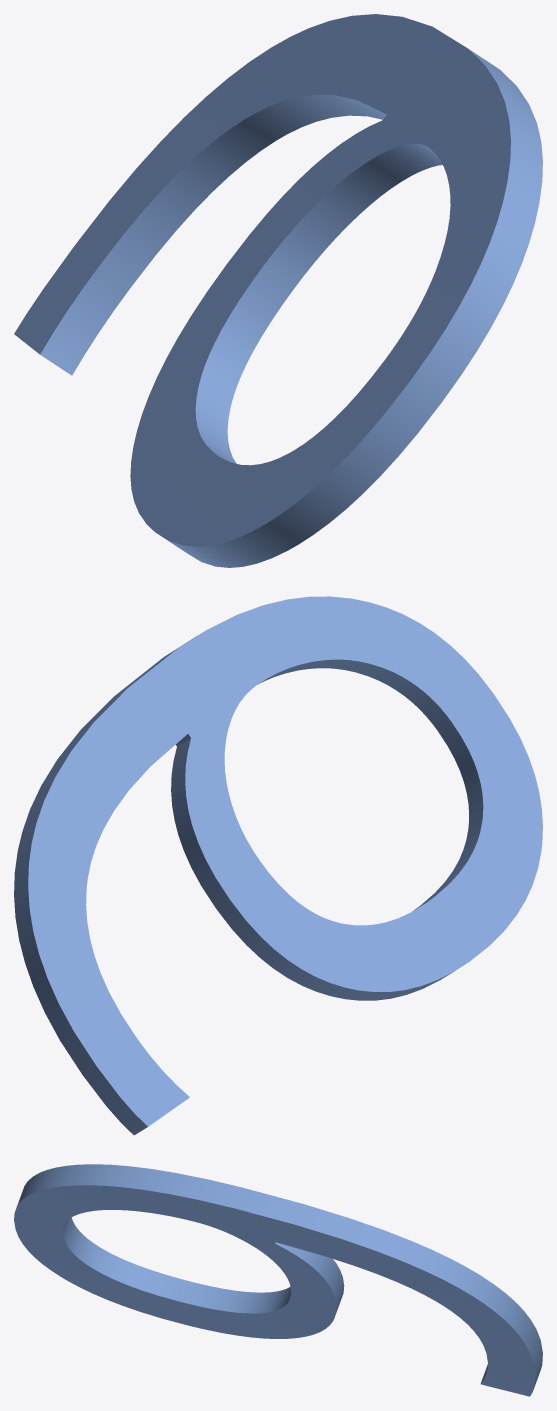
File: New_Number_6.gltf
The picture shows the model from 3 angles, top to bottom: view 1: azimuth 30°, elevation 25°; view 2: azimuth 150°, elevation 25°; view 3: azimuth 270°, elevation 25°; orthographic projection. The views are drawn at different scales.
Visible parts, largest first — view 1: Part 681; view 2: Part 681; view 3: Part 681.
Boxes of the visible parts, x1=… form: Part 681: x1=14, y1=14, x2=542, y2=567; Part 681: x1=14, y1=596, x2=542, y2=1135; Part 681: x1=14, y1=1164, x2=542, y2=1396.
Bounding box in the file's own units: 0.003 × 0.00311 × 0.00554.
